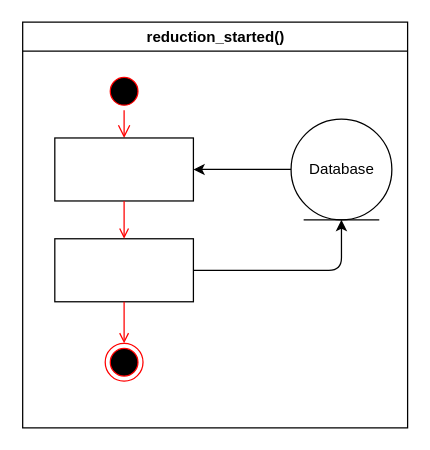
Some shapes in this 430 by 450 pixel diagram are drawn without their labels. The centre of each missing label's shape, as x and y in pixels:
Get Reduction Run: pixel 123 169
Set Status Processing: pixel 123 270
